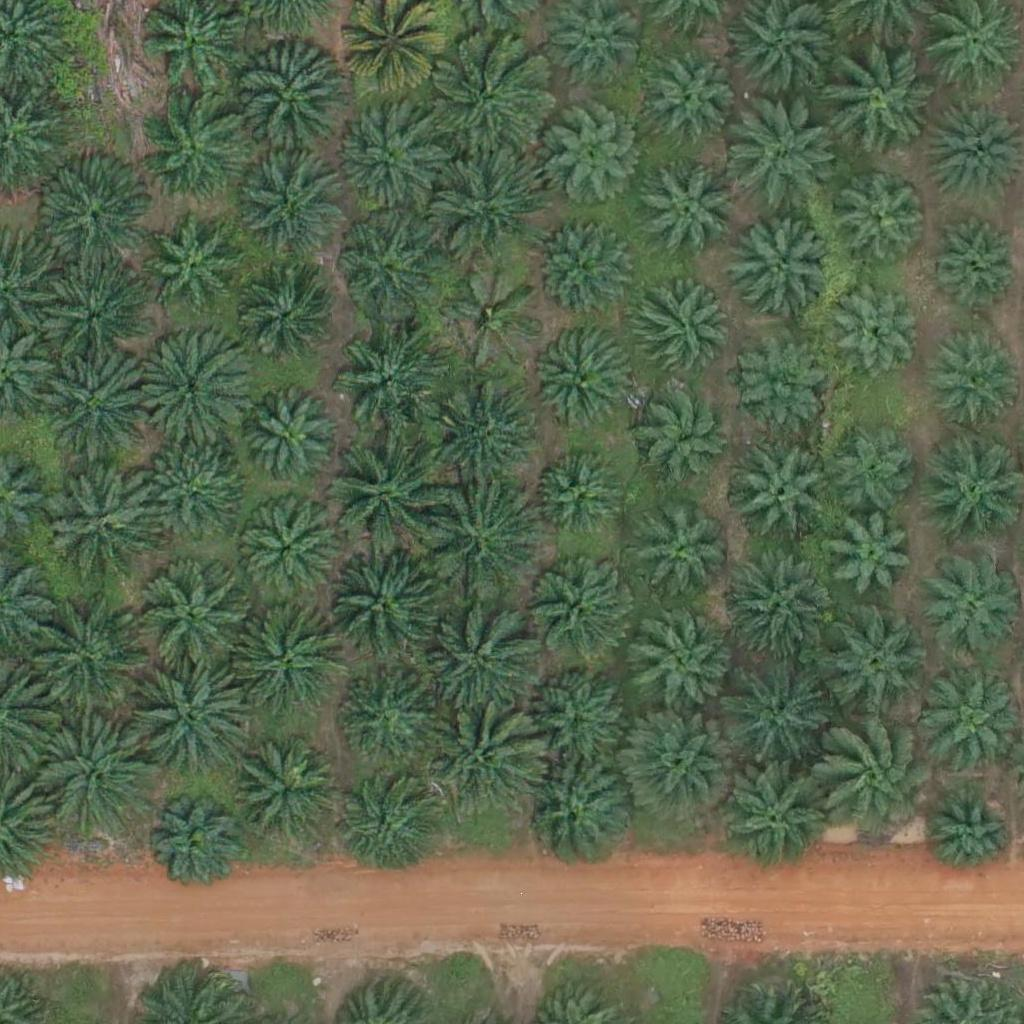Kelapa_Sawit: (816, 718, 941, 844), (327, 546, 440, 660), (134, 330, 247, 444), (43, 346, 156, 460), (37, 723, 150, 837), (720, 555, 833, 668), (720, 656, 833, 769), (716, 763, 829, 876), (421, 600, 534, 713), (424, 371, 537, 484), (428, 151, 541, 264), (432, 39, 545, 152), (326, 440, 439, 553), (235, 46, 348, 159), (229, 604, 342, 717), (139, 565, 252, 678), (48, 464, 161, 577), (725, 103, 837, 217), (424, 485, 536, 599), (140, 93, 252, 207), (819, 42, 931, 155), (816, 607, 928, 720), (625, 711, 737, 824), (519, 757, 631, 870), (424, 705, 536, 818), (332, 319, 444, 432), (231, 741, 343, 854), (141, 662, 253, 775), (41, 168, 153, 281), (30, 597, 142, 710), (923, 443, 1023, 544), (920, 552, 1020, 653), (832, 164, 932, 265), (732, 219, 832, 320), (736, 448, 836, 549), (637, 161, 737, 262), (629, 281, 729, 382), (634, 381, 734, 482), (630, 613, 730, 714), (535, 216, 635, 317), (532, 332, 632, 433), (531, 558, 631, 659), (333, 105, 433, 206), (335, 217, 435, 318), (339, 670, 439, 771), (336, 779, 436, 880), (241, 162, 341, 263), (236, 502, 336, 603), (142, 217, 242, 318), (923, 106, 1023, 206), (728, 331, 828, 431), (538, 111, 638, 211), (532, 660, 632, 760), (444, 267, 544, 367), (233, 276, 333, 376), (144, 449, 244, 549), (44, 265, 144, 365), (246, 396, 334, 485), (929, 217, 1017, 305), (534, 457, 622, 545), (926, 790, 1013, 878), (830, 285, 917, 373), (830, 426, 917, 514), (827, 514, 914, 602), (649, 56, 736, 144), (638, 509, 725, 597), (551, 1, 638, 89), (149, 803, 236, 891)
